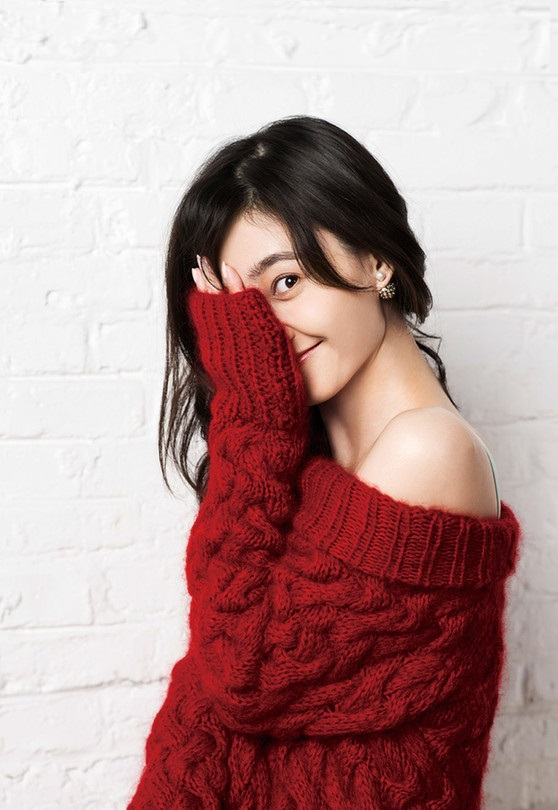face: (202, 201, 353, 411)
